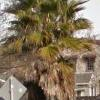Palm tree: (7, 1, 82, 66)
